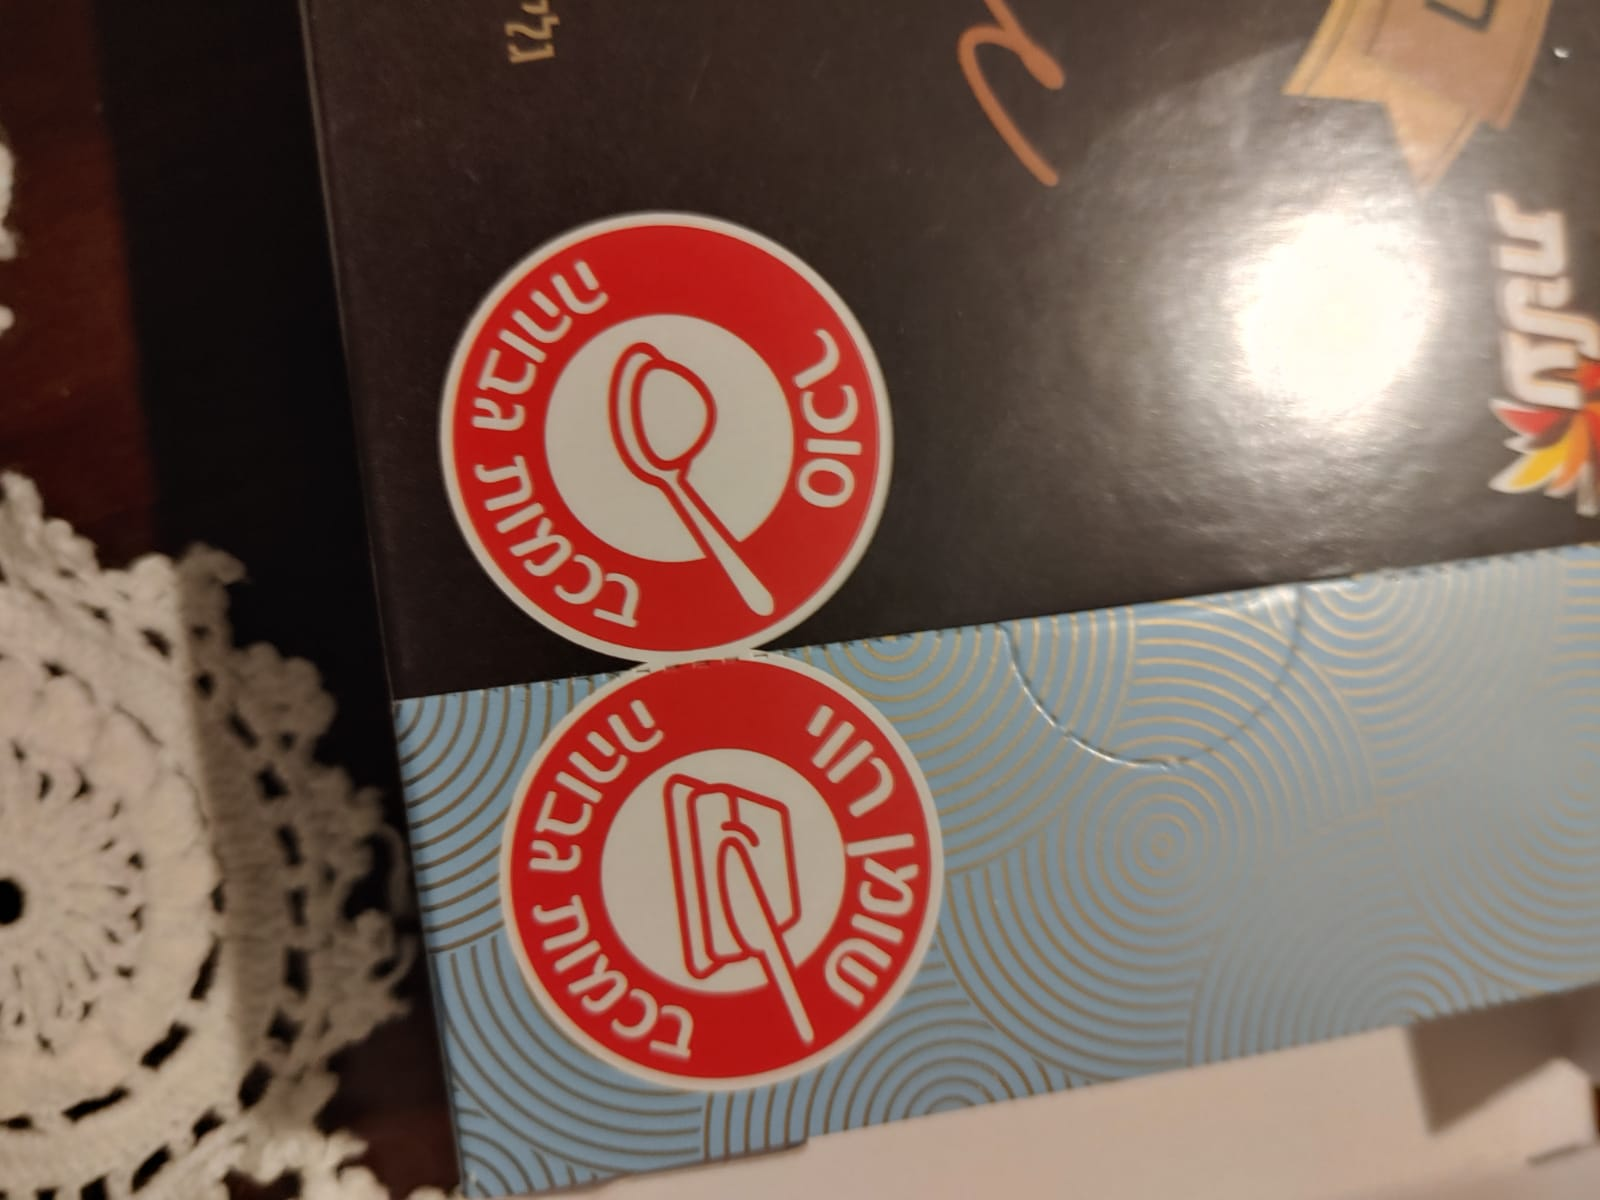fat: (500, 649, 945, 1092)
sugar: (431, 214, 894, 668)
